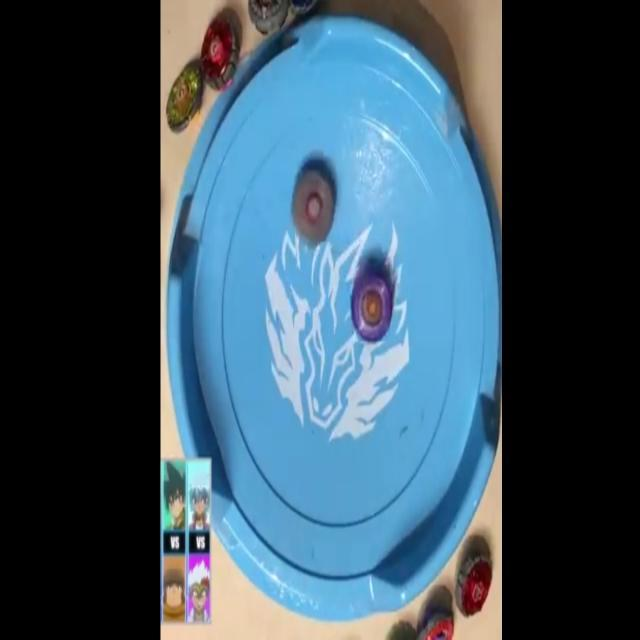Beyblade: (200, 16, 240, 90), (292, 172, 334, 242), (351, 274, 392, 343), (165, 62, 204, 133), (456, 556, 492, 618)
